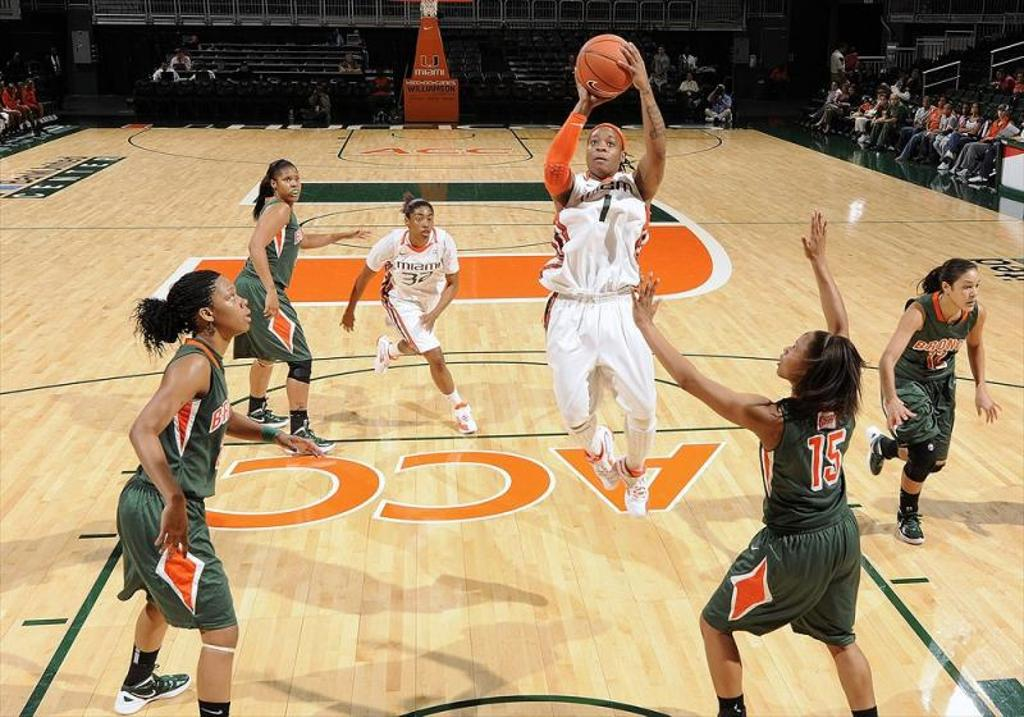face: (214, 281, 252, 332), (778, 337, 818, 376), (589, 130, 621, 174), (950, 272, 979, 312), (277, 171, 301, 201), (410, 209, 433, 240), (998, 107, 1006, 117), (971, 105, 977, 113), (944, 106, 950, 114), (923, 98, 929, 106), (938, 98, 944, 106), (963, 106, 968, 114), (892, 97, 897, 105), (880, 97, 885, 105)
